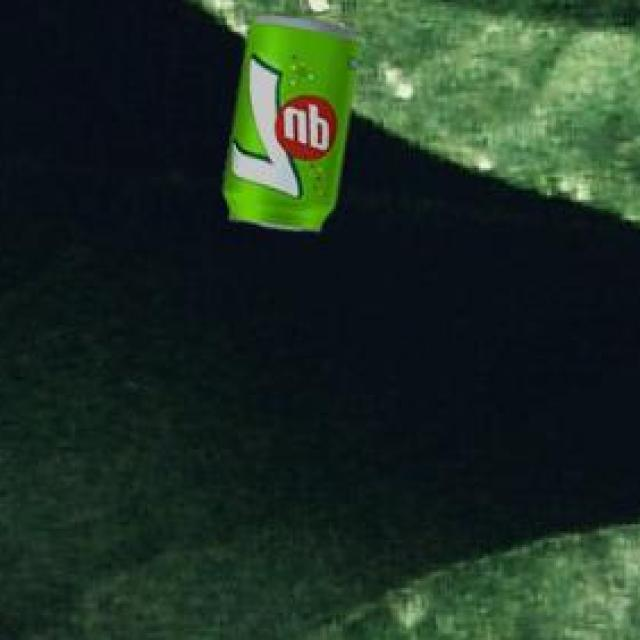logam: (228, 12, 362, 226)
